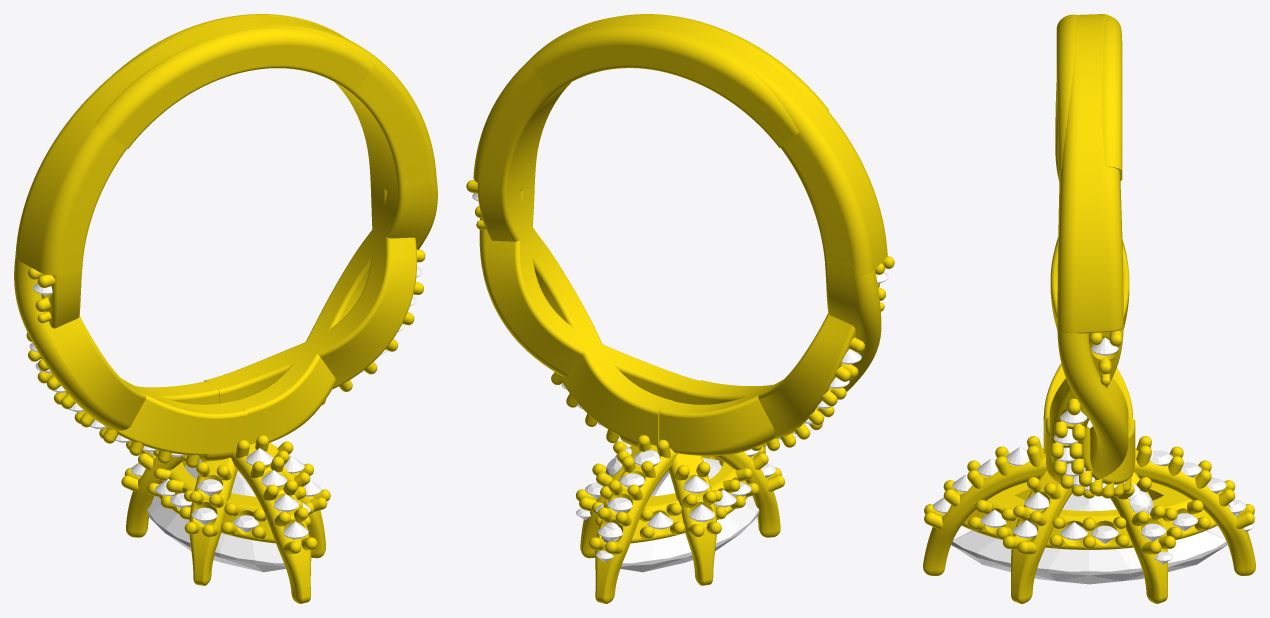
Rendered from 1787560526171-LLGCC238RG.-1glb.glb.
3 renders of one model, left to right at view 1: azimuth 30°, elevation 25°; view 2: azimuth 150°, elevation 25°; view 3: azimuth 270°, elevation 25°, orthographic. The views are drawn at different scales.
Parts seen in each view (by area): view 1: Metal-1, gem_1; view 2: Metal-1, gem_1; view 3: Metal-1, gem_1.
Boxes of the visible parts, x1=… form: Metal-1: x1=14, y1=14, x2=437, y2=603; gem_1: x1=147, y1=458, x2=308, y2=572; Metal-1: x1=466, y1=14, x2=894, y2=603; gem_1: x1=620, y1=457, x2=759, y2=572; Metal-1: x1=923, y1=14, x2=1255, y2=603; gem_1: x1=951, y1=493, x2=1227, y2=584.
Bounding box in the file's own units: 22.05 × 27.04 × 15.19.
